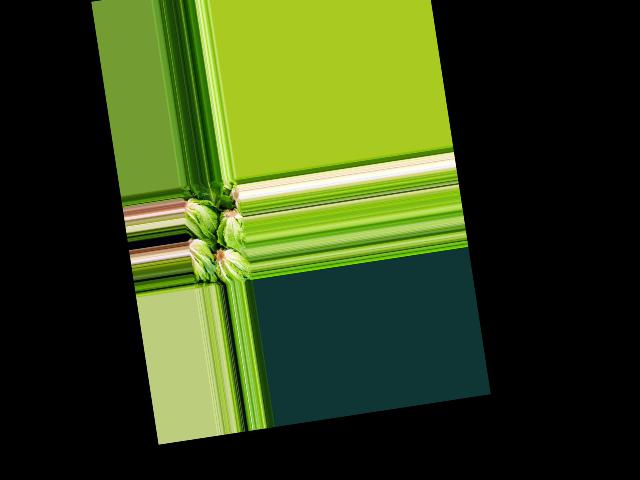lettuce: (198, 178, 226, 207)
